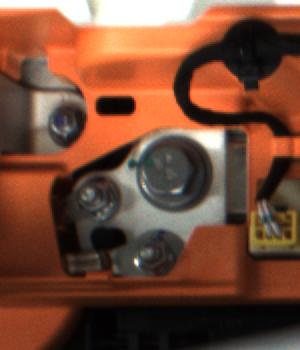nut_b: (137, 131, 216, 214)
